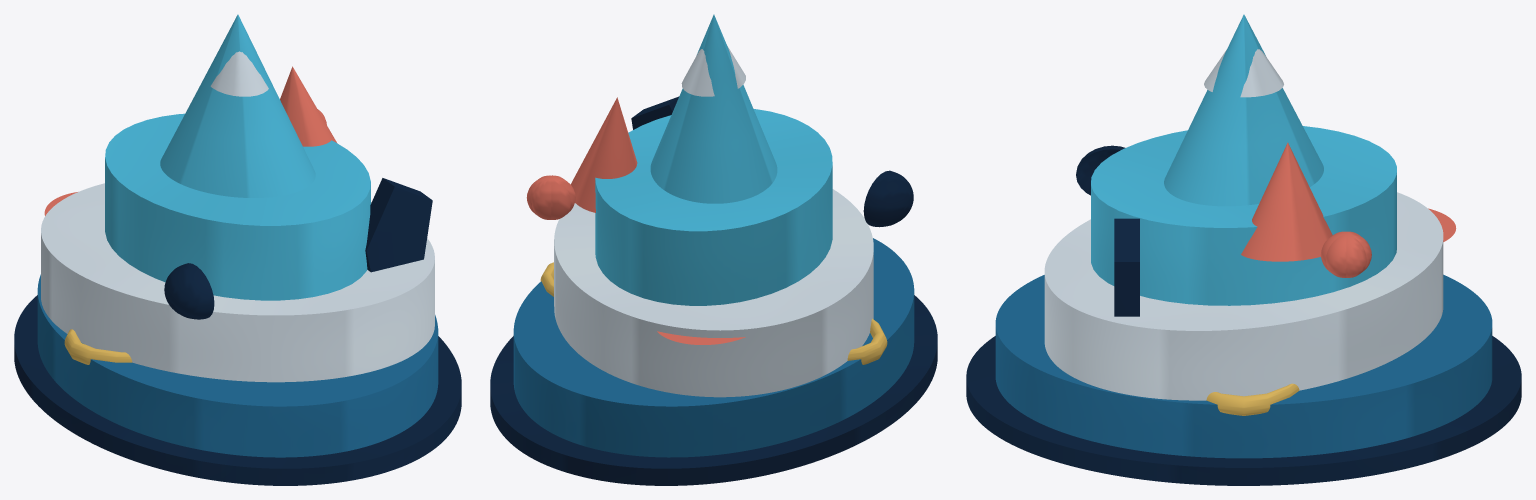
The model's file is 1316_中国古代寓言_太行山、王屋山.glb.
3 renders of one model, left to right at view 1: azimuth 30°, elevation 25°; view 2: azimuth 150°, elevation 25°; view 3: azimuth 270°, elevation 25°, orthographic. The views are drawn at different scales.
Visible parts, largest first — view 1: card_1316; view 2: card_1316; view 3: card_1316.
Boxes of the visible parts, x1,y1,x2,y2 form: card_1316: [14, 14, 461, 485]; card_1316: [490, 14, 937, 485]; card_1316: [966, 14, 1521, 485].
Bounding box in the file's own units: 1.03 × 1 × 1.32.
